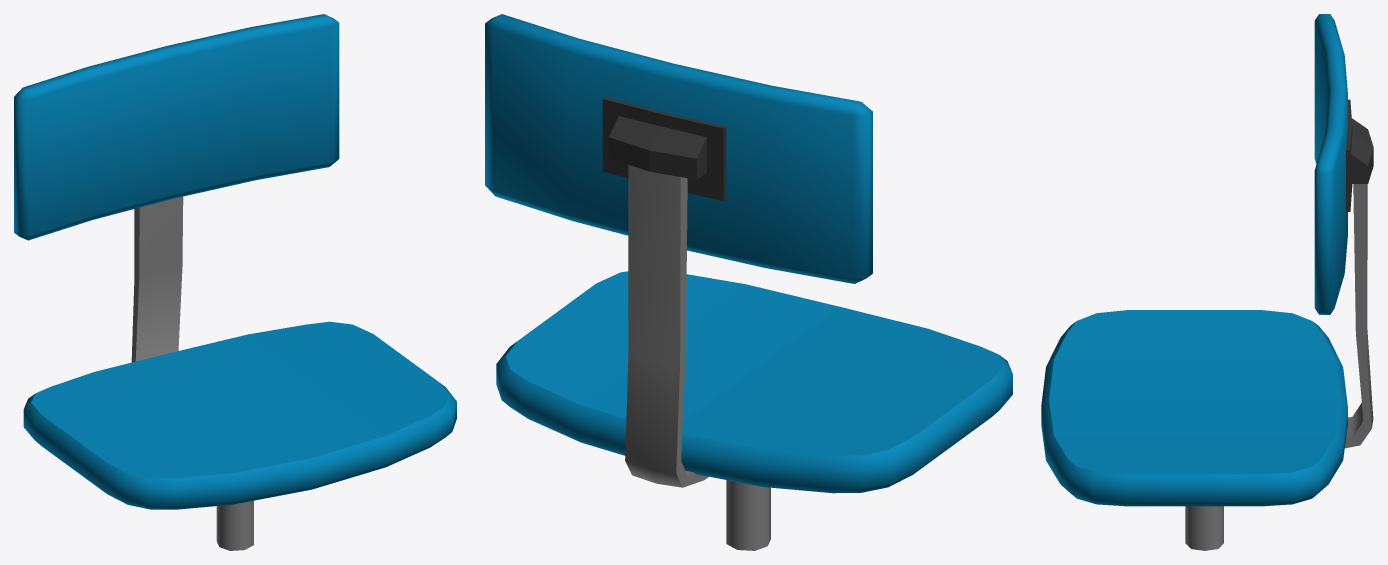
Rendered from Chair_Office_Base_A.fbx.
The picture shows the model from 3 angles, left to right: view 1: azimuth 30°, elevation 25°; view 2: azimuth 150°, elevation 25°; view 3: azimuth 270°, elevation 25°; orthographic projection. The views are drawn at different scales.
Parts seen in each view (by area): view 1: Chair_Office_Base_A; view 2: Chair_Office_Base_A; view 3: Chair_Office_Base_A.
Boxes of the visible parts, x1=… form: Chair_Office_Base_A: x1=14, y1=14, x2=456, y2=550; Chair_Office_Base_A: x1=485, y1=14, x2=1012, y2=550; Chair_Office_Base_A: x1=1041, y1=14, x2=1373, y2=550.
Bounding box in the file's own units: 59.63 × 73.87 × 49.02.
